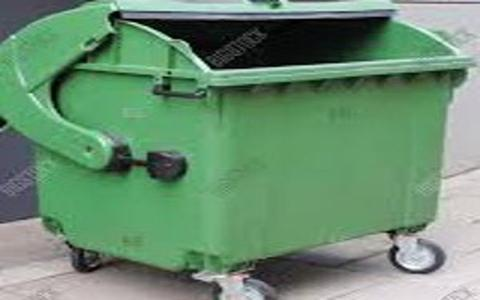Proper garbage: (1, 1, 475, 297)
